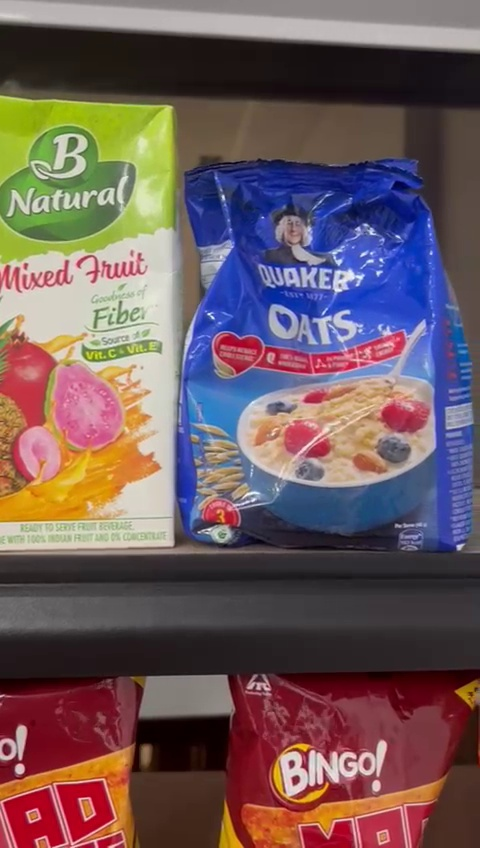Mixed Fruit: (0, 94, 180, 554)
Quaker Oats: (183, 156, 479, 551)
